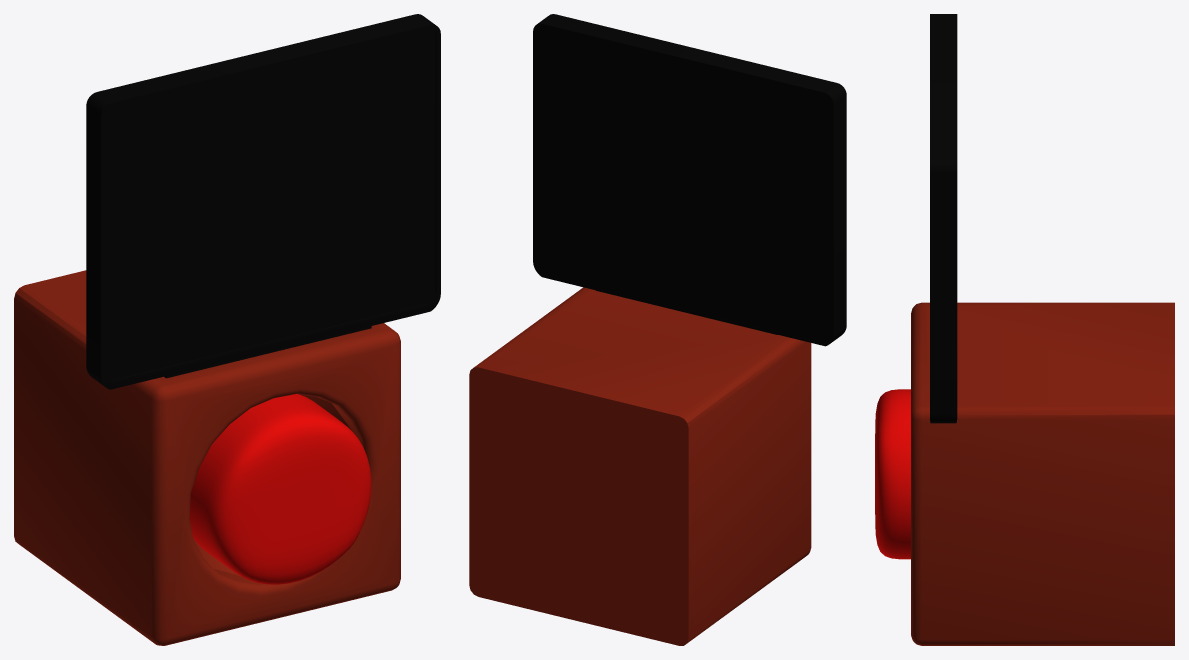
File: emergencyButton.fbx
3 renders of one model, left to right at view 1: azimuth 30°, elevation 25°; view 2: azimuth 150°, elevation 25°; view 3: azimuth 270°, elevation 25°, orthographic. The views are drawn at different scales.
Parts seen in each view (by area): view 1: emergencyButton, emergencyButtonBTN; view 2: emergencyButton; view 3: emergencyButton, emergencyButtonBTN.
Boxes of the visible parts, bbox=[...] form: emergencyButton: bbox=[14, 14, 440, 645]; emergencyButtonBTN: bbox=[189, 394, 371, 584]; emergencyButton: bbox=[469, 14, 846, 645]; emergencyButton: bbox=[911, 14, 1174, 645]; emergencyButtonBTN: bbox=[875, 389, 910, 559].
Bounding box in the file's own units: 274 × 424 × 227.
2 materials, 2 textured.
